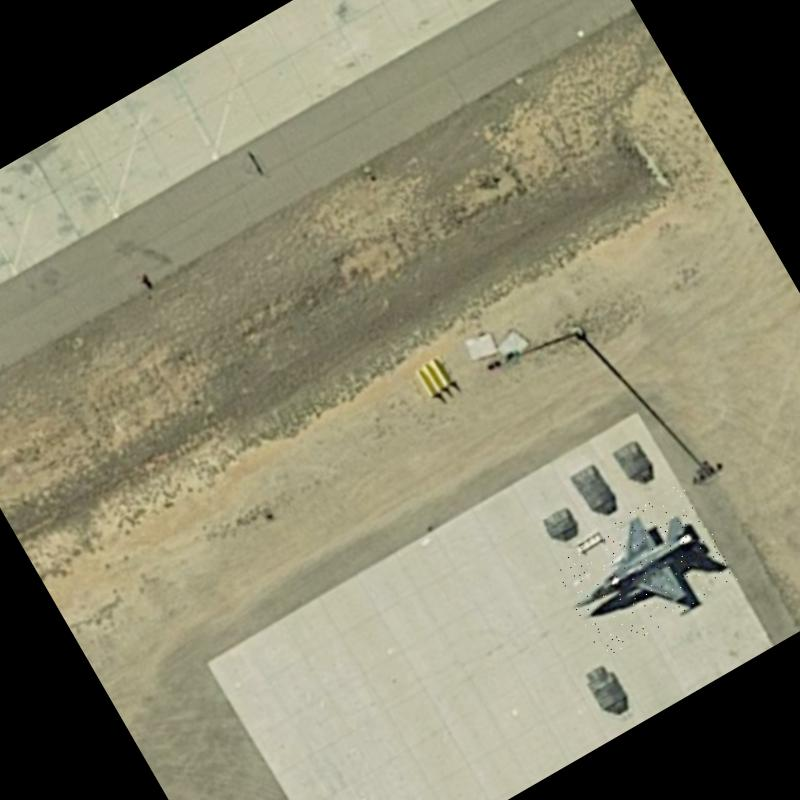A5: (546, 480, 740, 659)
